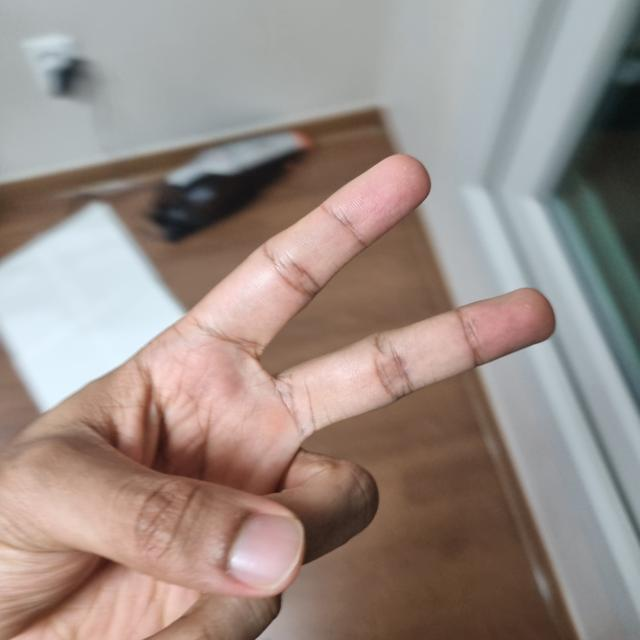Scissors: (0, 158, 548, 639)
